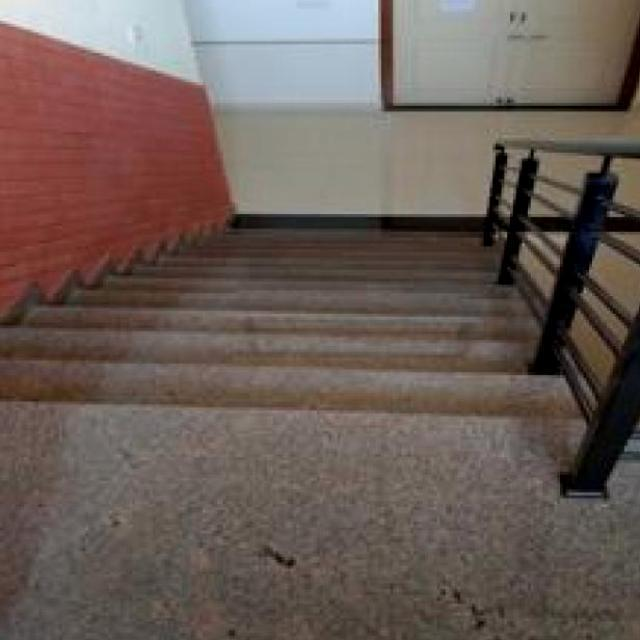stair: (50, 267, 481, 475)
